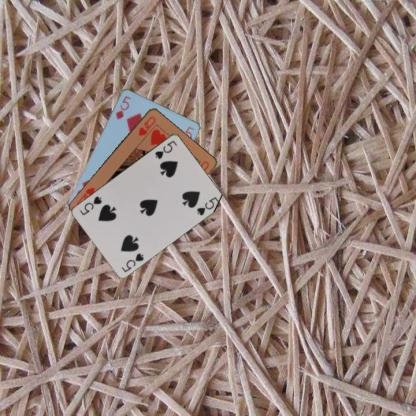5d: (113, 93, 132, 121)
5s: (119, 250, 145, 273), (152, 138, 178, 160)
Qh: (136, 113, 157, 137)
